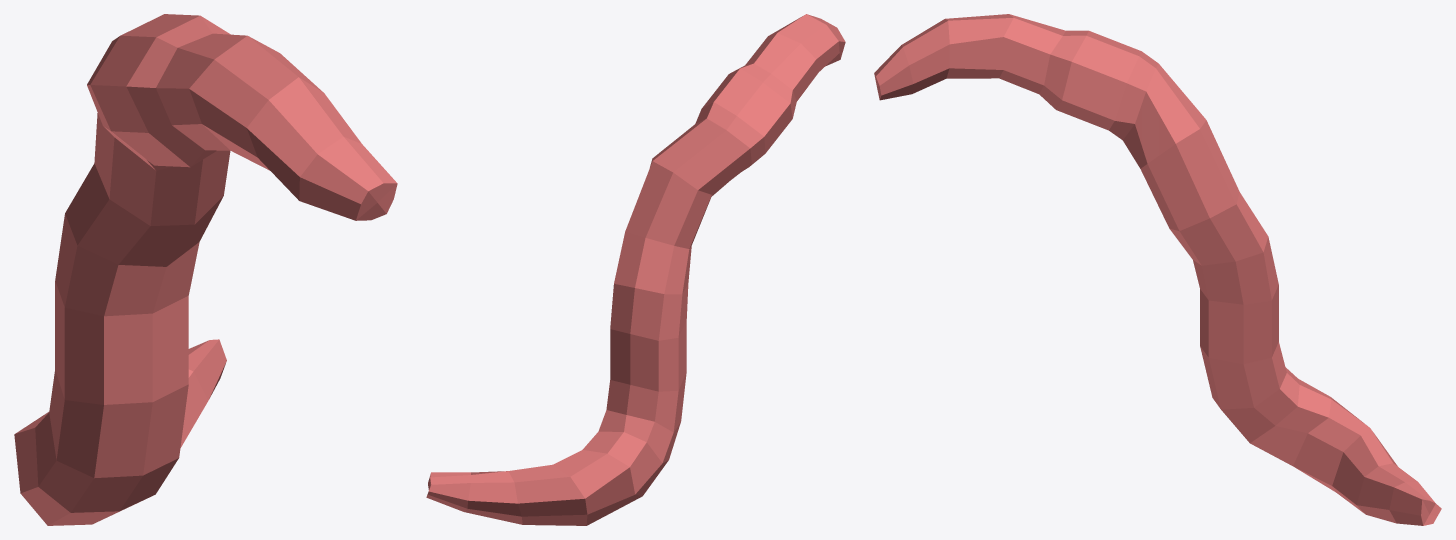
Rendered from worm2-xjM8Qsa-.glb.
3 renders of one model, left to right at view 1: azimuth 30°, elevation 25°; view 2: azimuth 150°, elevation 25°; view 3: azimuth 270°, elevation 25°, orthographic. The views are drawn at different scales.
Visible parts, largest first — view 1: Cube_0; view 2: Cube_0; view 3: Cube_0.
Part boxes in pixels (<box>): Cube_0: <box>14,14,397,525</box>; Cube_0: <box>426,14,845,525</box>; Cube_0: <box>874,14,1441,525</box>.
Size of the model in its own units: 3.06 by 5.49 by 6.35.
